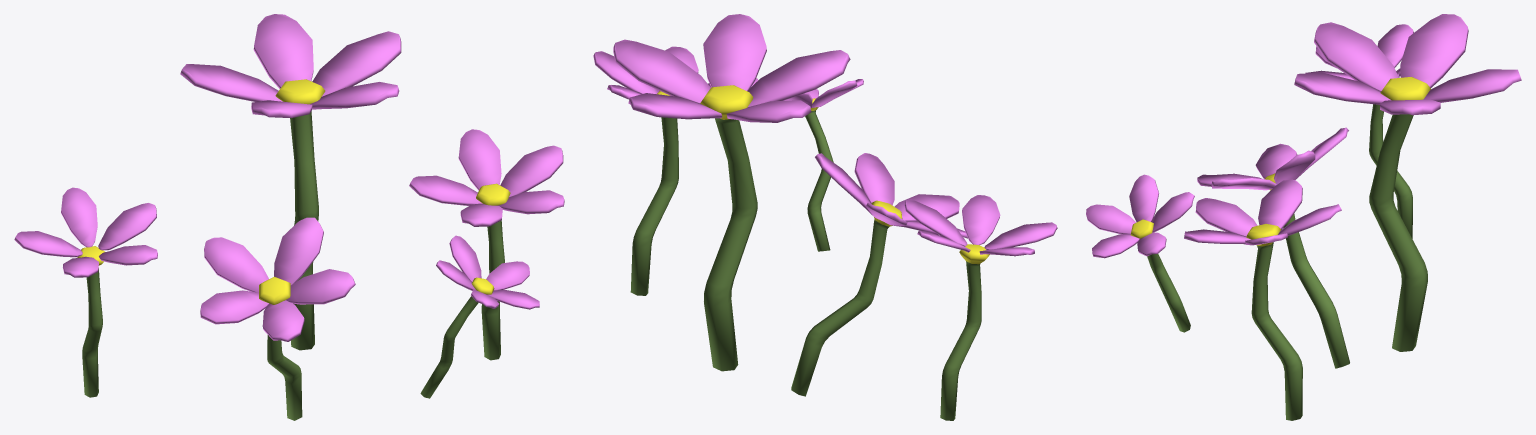
File: Flower_3.fbx
The picture shows the model from 3 angles, left to right: view 1: azimuth 30°, elevation 25°; view 2: azimuth 150°, elevation 25°; view 3: azimuth 270°, elevation 25°; orthographic projection. The views are drawn at different scales.
Visible parts, largest first — view 1: Flower_3; view 2: Flower_3; view 3: Flower_3.
Part boxes in pixels (box(x1,y1,x2,y2)): Flower_3: box(14, 14, 564, 420); Flower_3: box(593, 14, 1057, 420); Flower_3: box(1086, 14, 1521, 420).
Size of the model in its own units: 0.3658 by 0.2365 by 0.2837.
